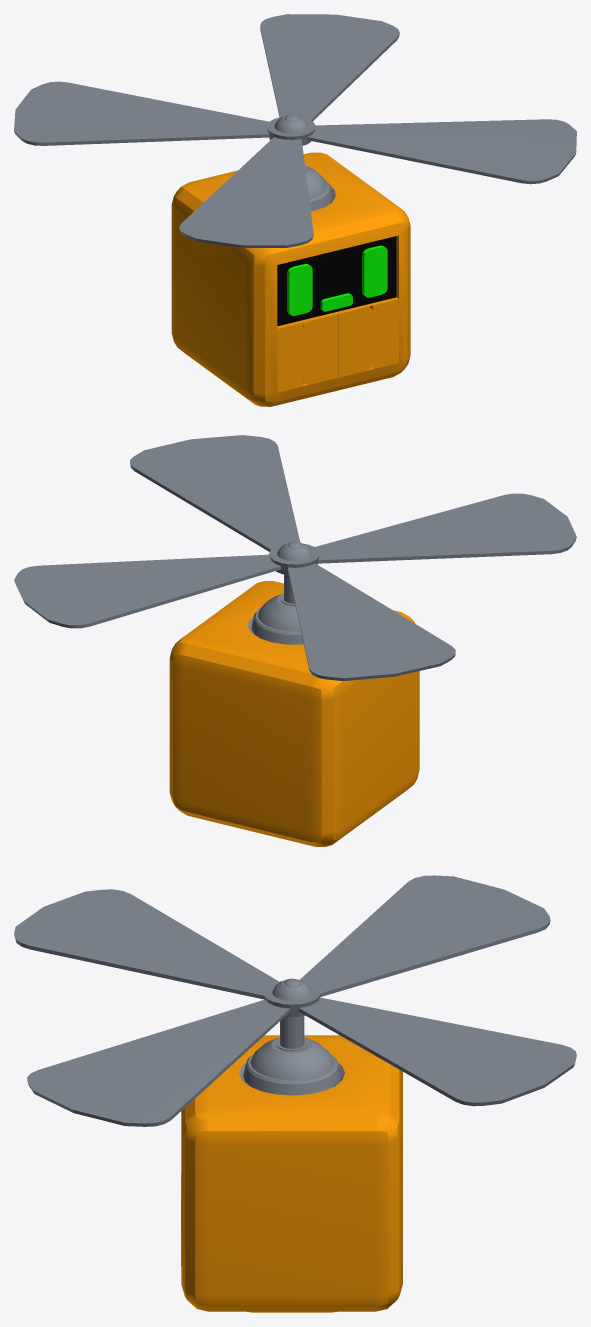
The model's file is Propeller4.fbx.
3 renders of one model, top to bottom at view 1: azimuth 30°, elevation 25°; view 2: azimuth 150°, elevation 25°; view 3: azimuth 270°, elevation 25°, orthographic. The views are drawn at different scales.
Visible parts, largest first — view 1: pCylinder14; view 2: pCylinder14; view 3: pCylinder14.
Boxes of the visible parts, bbox=[...] form: pCylinder14: bbox=[14, 14, 576, 406]; pCylinder14: bbox=[14, 435, 576, 846]; pCylinder14: bbox=[14, 875, 576, 1312].
Size of the model in its own units: 76.41 by 42.99 by 73.89.
